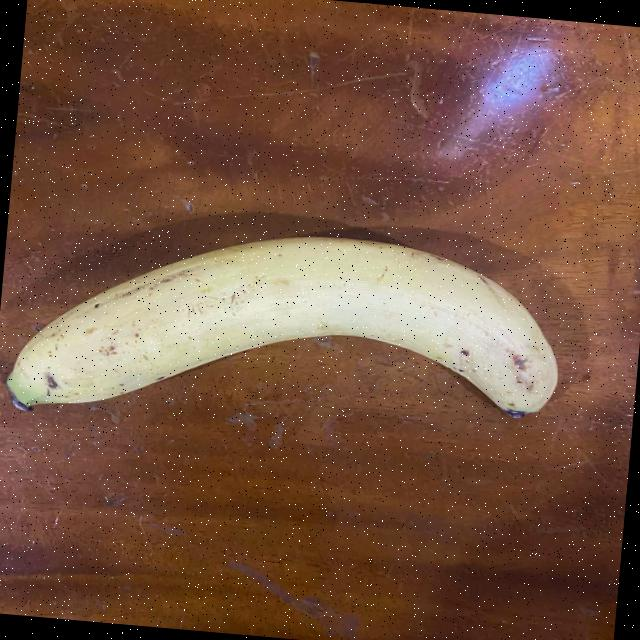Ripe: (0, 177, 612, 479)
